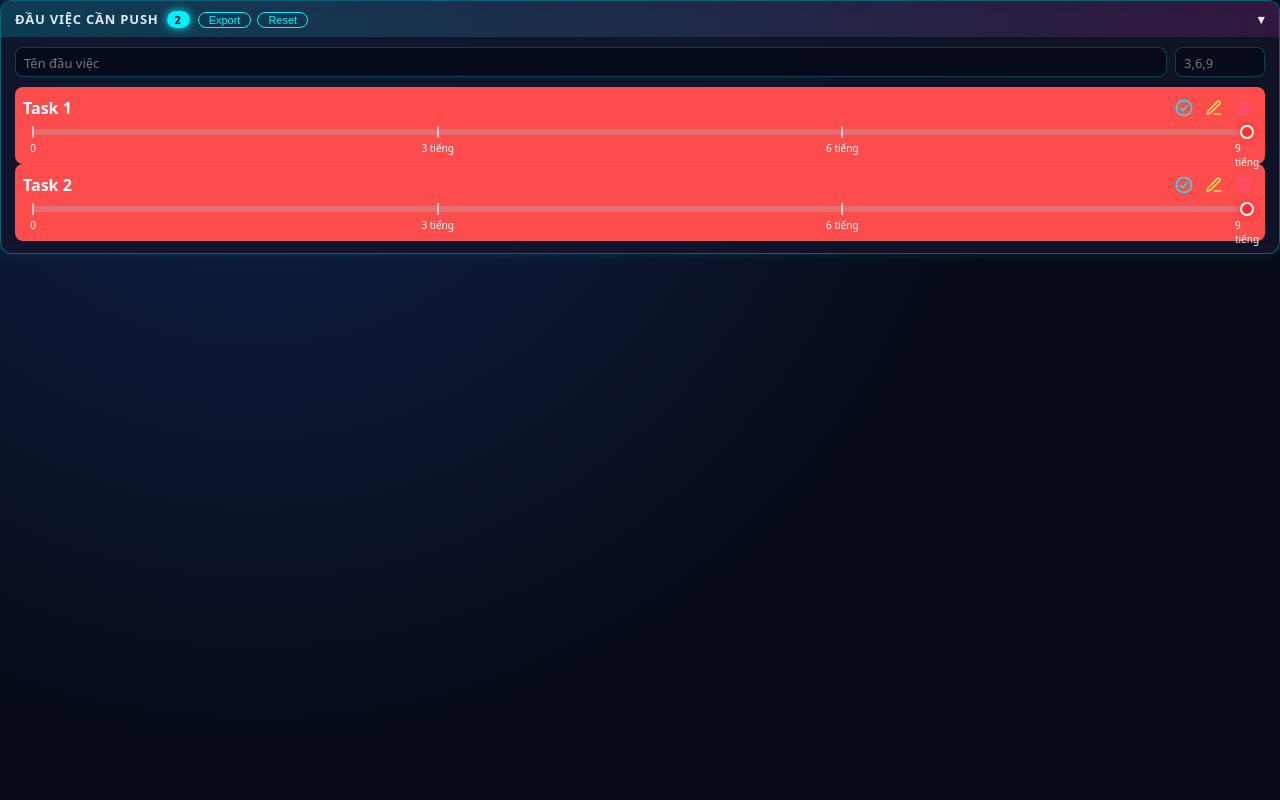
PushTaskPanel › công việc đã xóa không còn trong Export
Expected: the text "Task 1" is shown, [23,97,72,119]
What coordinates should you click on to do the following:
click the button named "Xóa đầu việc" in the row of "Task 1"
I would click on:
 (1244, 108)
Its box is [1231,95,1257,121].
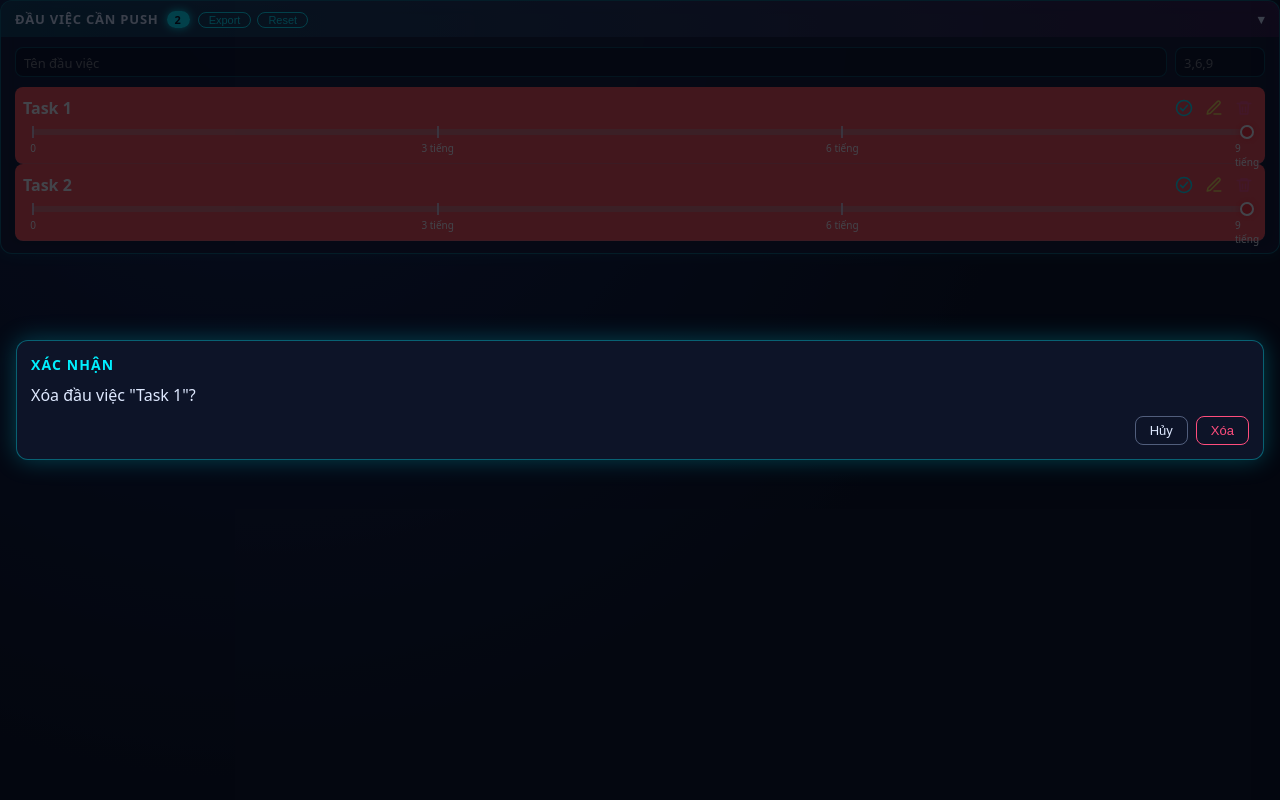
What coordinates should you click on to do the following:
click the button "Xóa"
I would click on:
 (1222, 430)
Its box is [1196,416,1249,445].
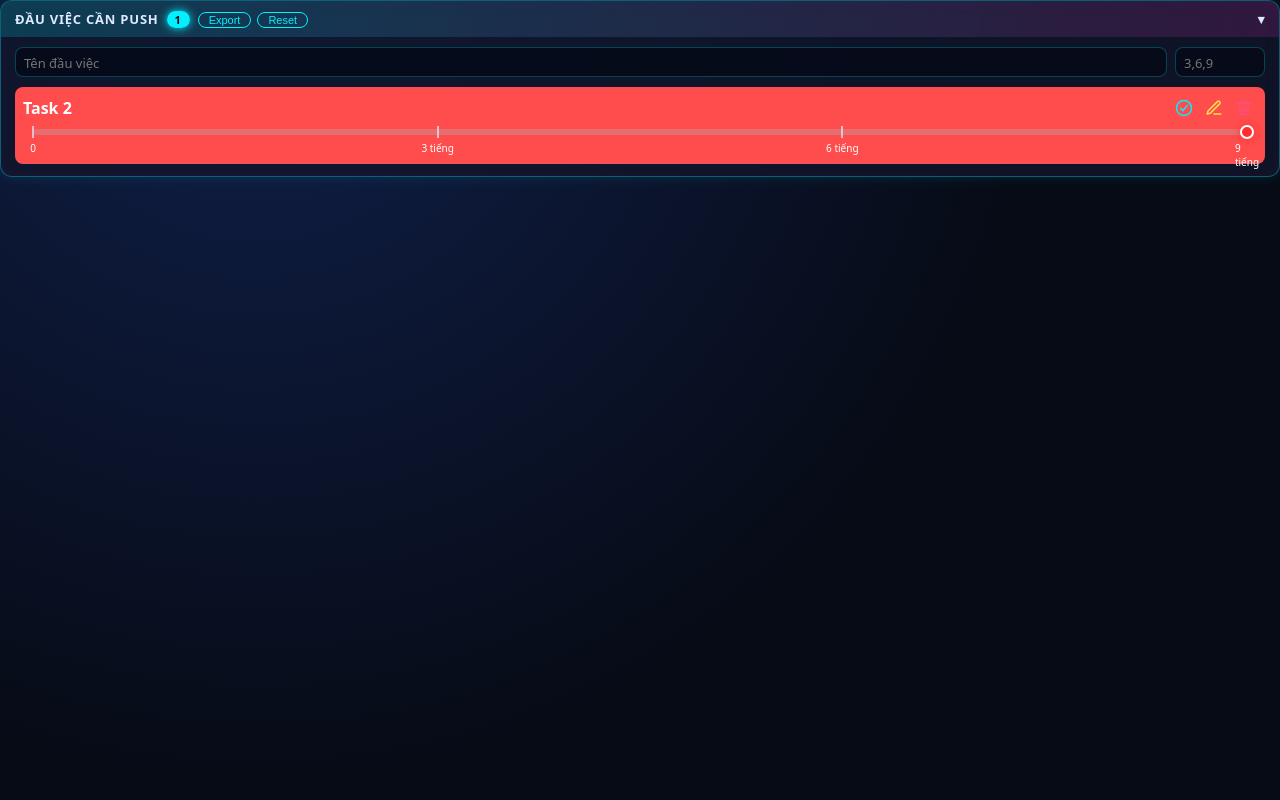
Expected: the element with test id "push-task-row-1" is gone
What coordinates should you click on to do the following:
click the button "Export"
I would click on:
 (224, 20)
Its box is [198,12,251,28].
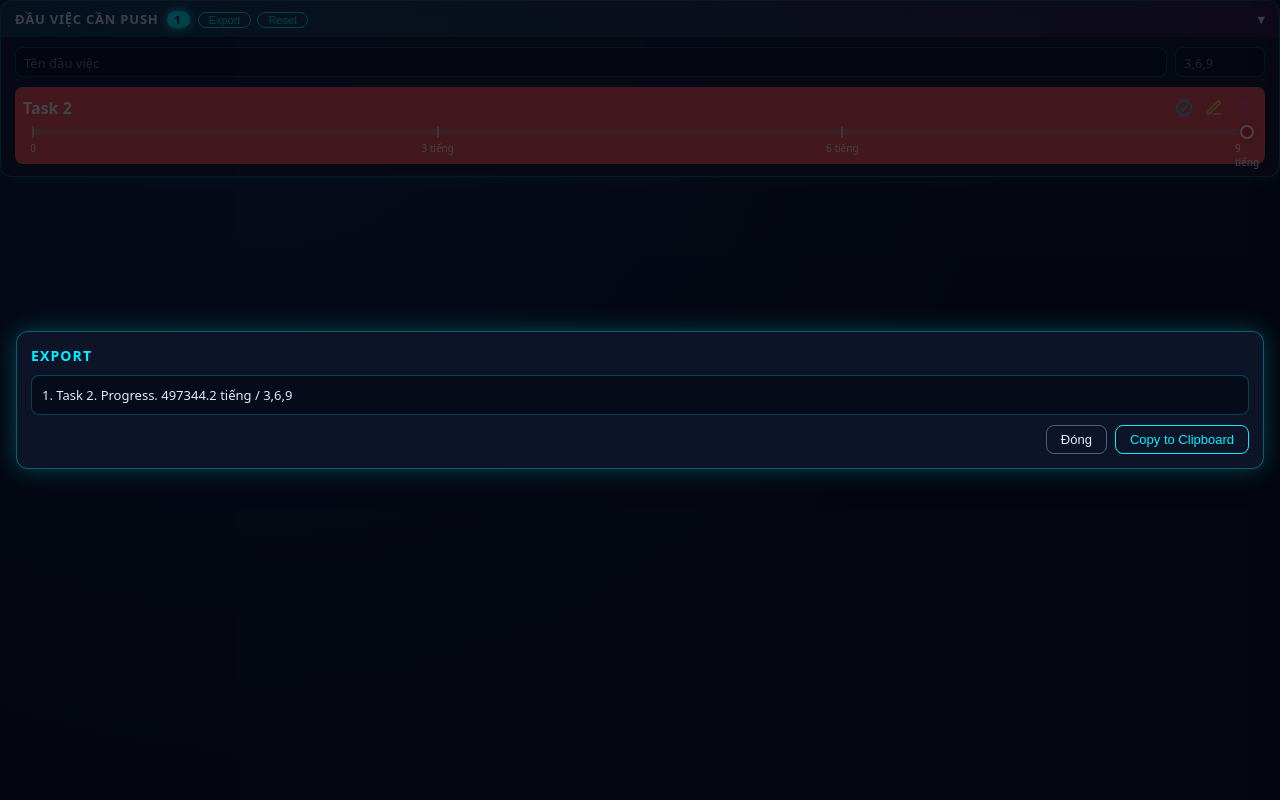
Expected: the text with test id "export-text" does not show "Task 1"
Expected: the text with test id "export-text" shows "1. Task 2. Progress.", [42,386,292,404]
